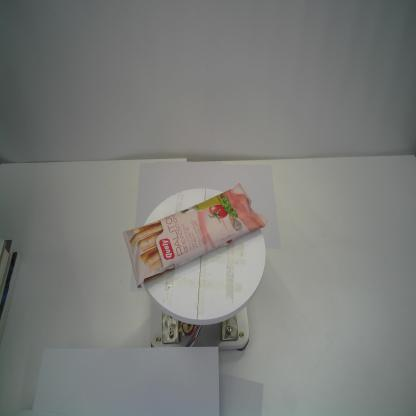Dessert: (122, 181, 268, 291)
